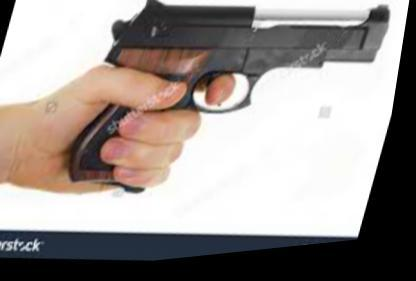pistol: (64, 0, 401, 222)
